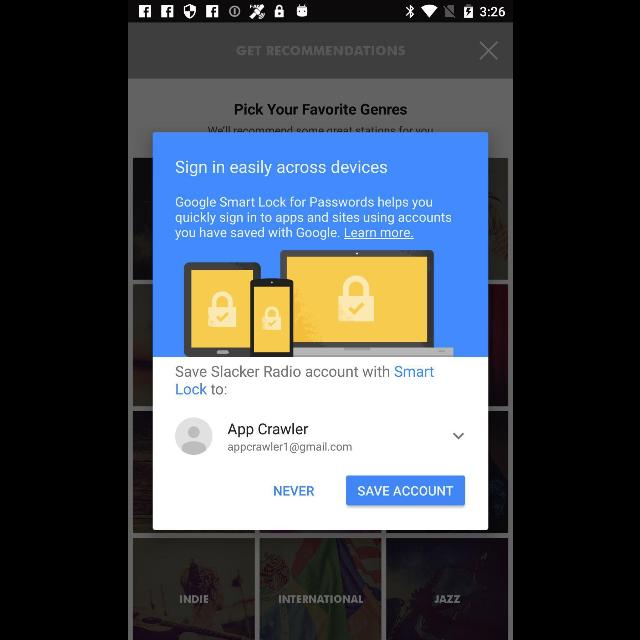icon: (174, 417, 212, 455), (478, 41, 498, 60), (452, 432, 464, 440)
image: (183, 250, 453, 356)
panel: (152, 132, 488, 530)
text: (175, 196, 452, 240), (174, 365, 433, 395), (175, 160, 387, 178), (234, 104, 406, 116), (234, 46, 403, 56), (227, 442, 351, 454), (227, 423, 307, 437), (278, 595, 362, 603), (272, 486, 314, 496), (178, 595, 208, 603), (433, 595, 459, 603)
textbutton: (346, 476, 464, 506)
uppertaskbar: (128, 1, 512, 23)
